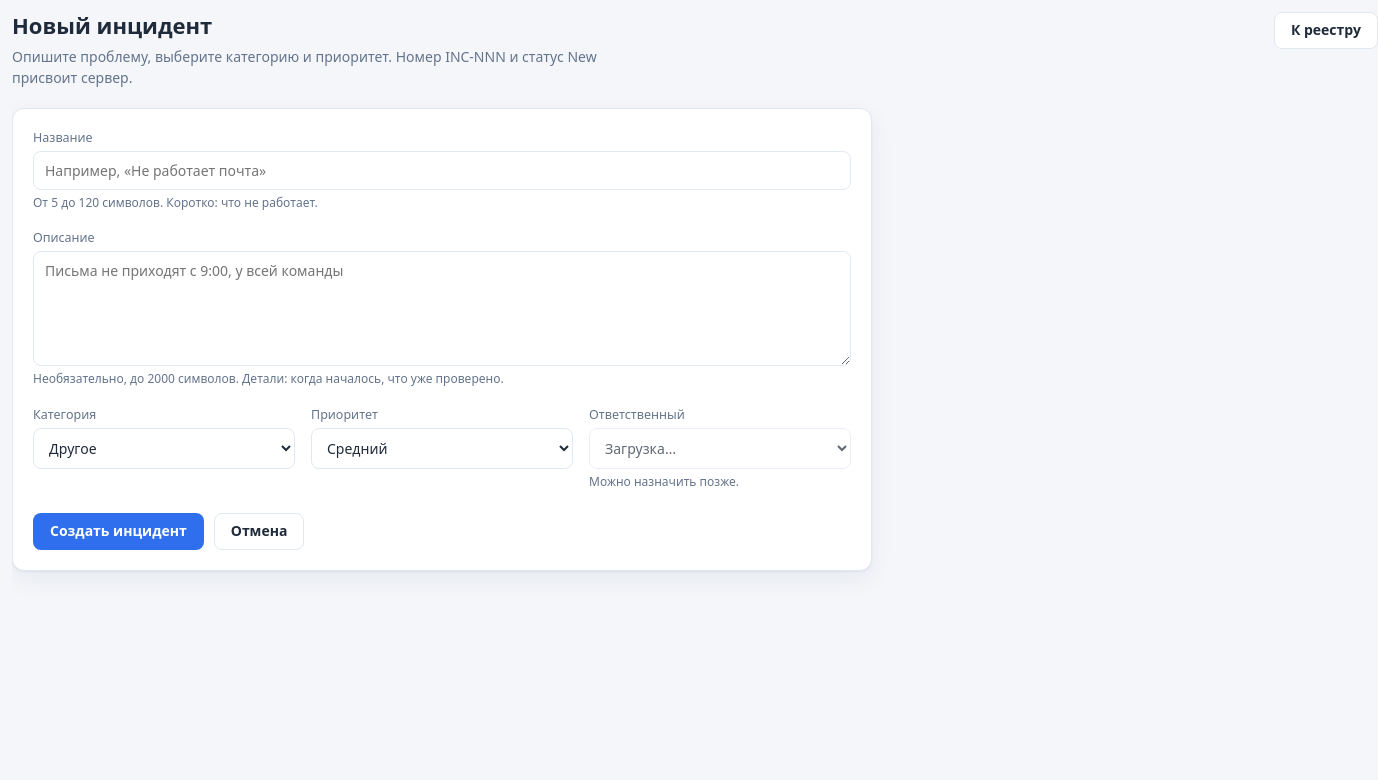
Test: IncidentCreatePage — форма создания › показывает сетевую ошибку и не теряет введённые данные
The image size is (1378, 780).
Type "Не работает почта" into the field labelled "Название".
click(442, 170); type("Не работает почта")  # box [33, 150, 851, 190]
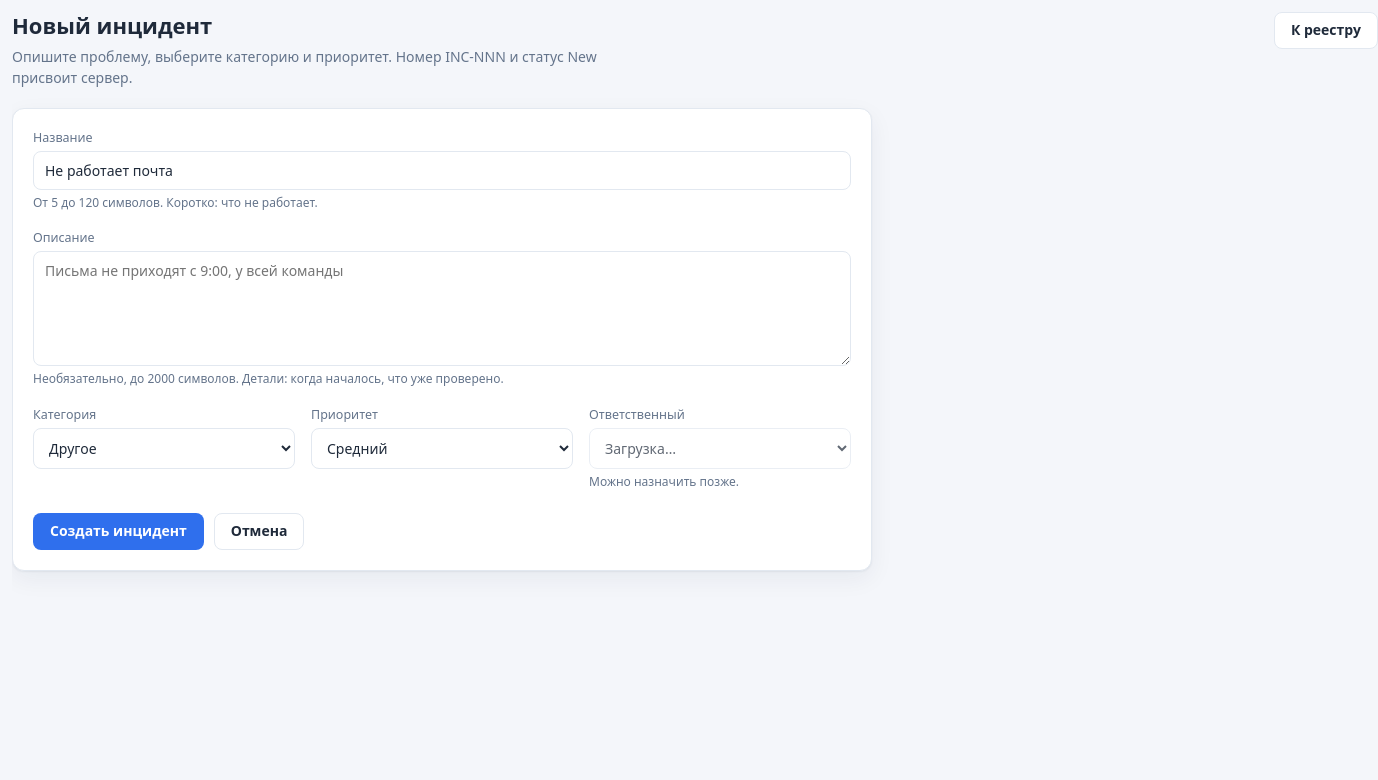
Click the button "Создать инцидент".
click(118, 531)  # box [33, 513, 204, 550]
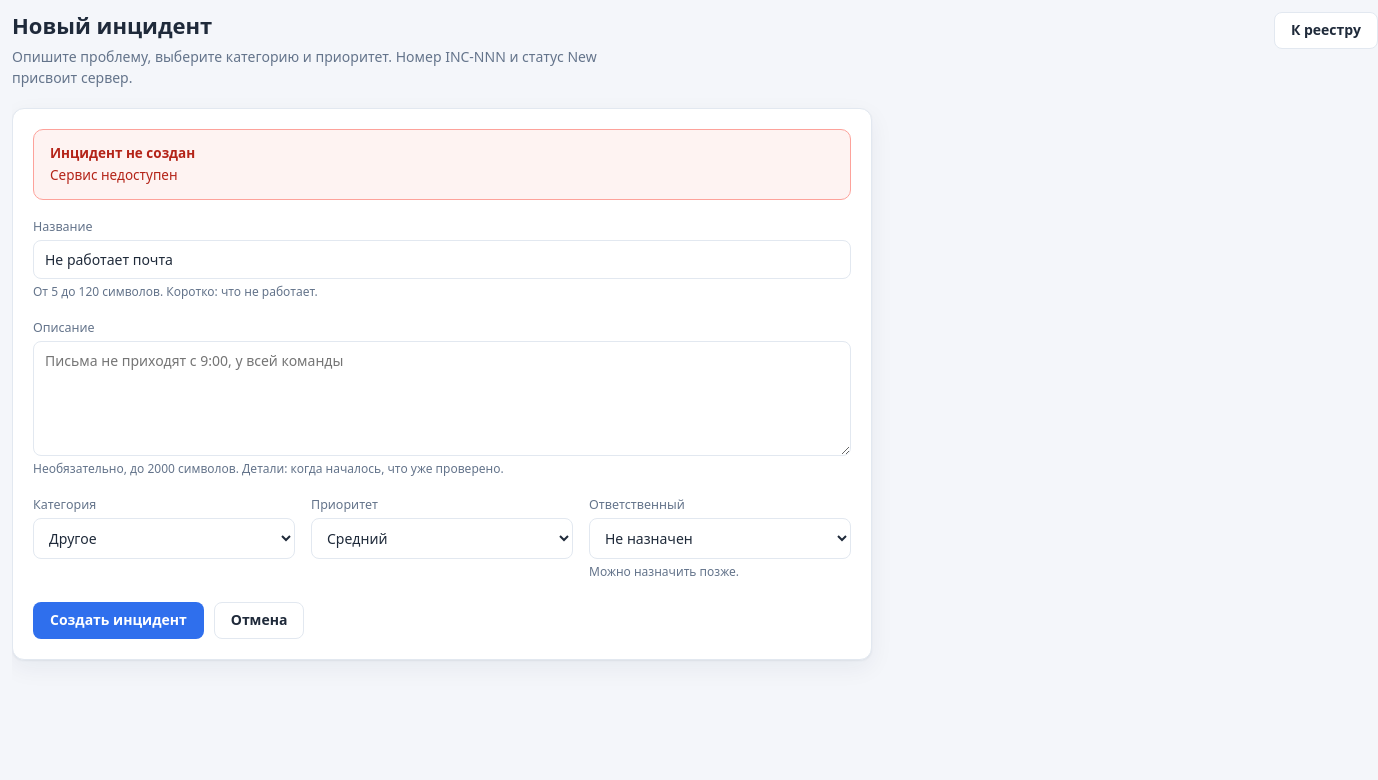
Expected: the message shows "Сервис недоступен", [50, 166, 178, 184]
